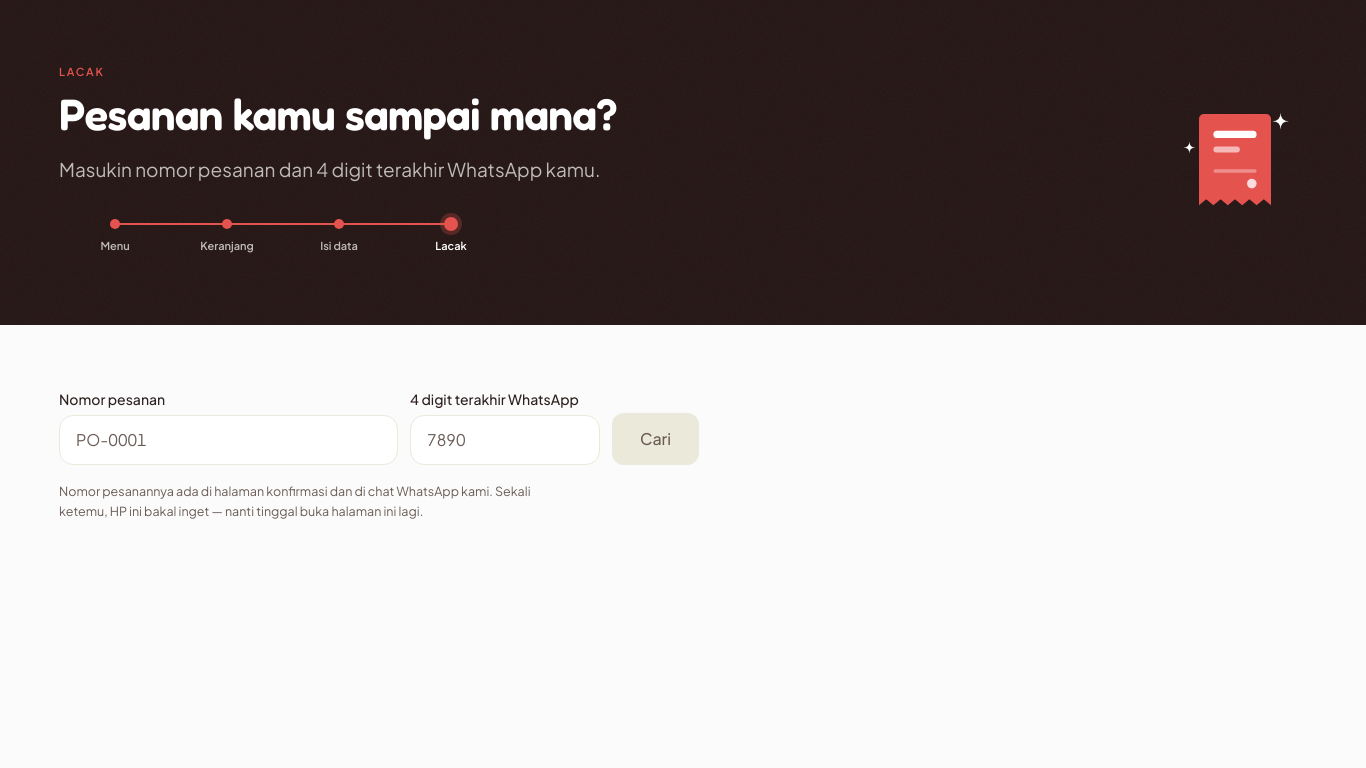
TrackView › says so on a miss, without remembering anything
In the field labelled "Nomor pesanan": {"x": 229, "y": 440} [59,415,398,465], type "PO-0012"
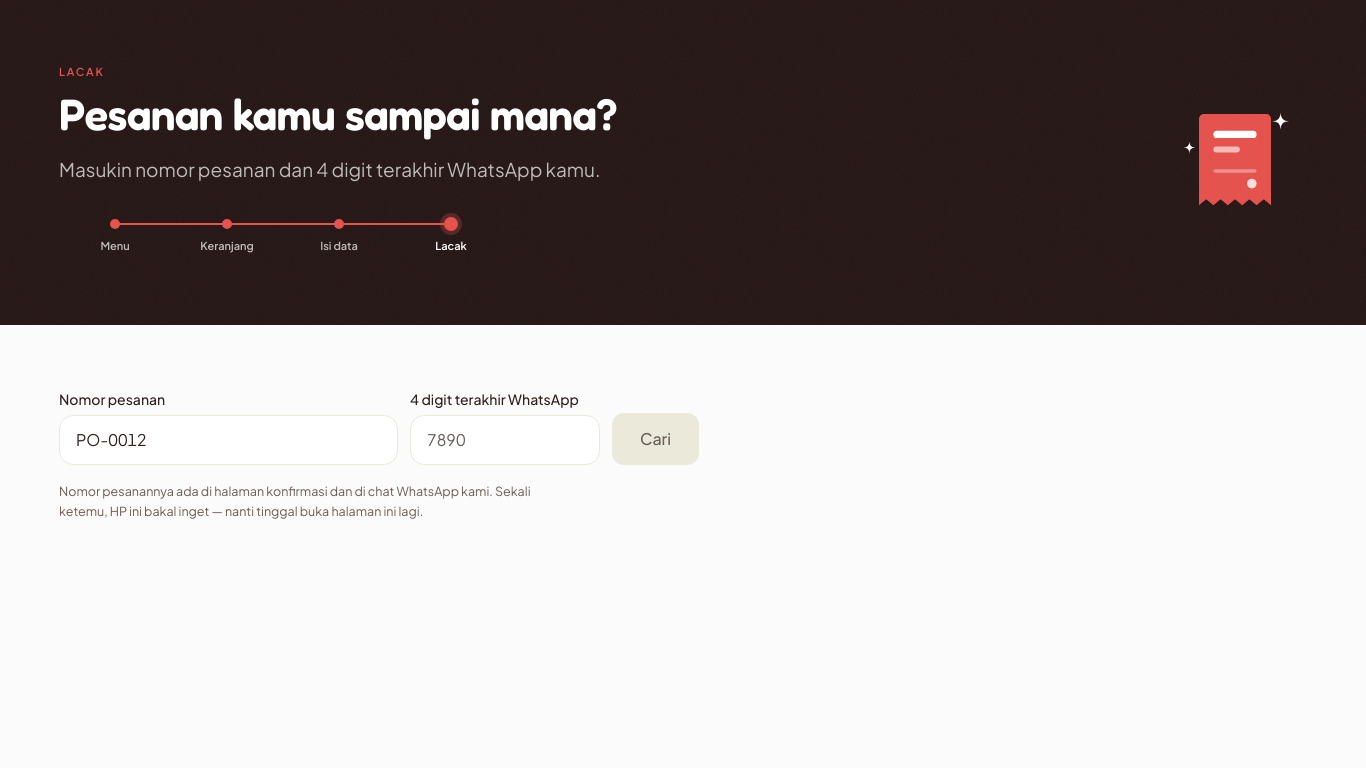
In the field labelled "4 digit terakhir WhatsApp": {"x": 505, "y": 440} [410,415,600,465], type "1111"
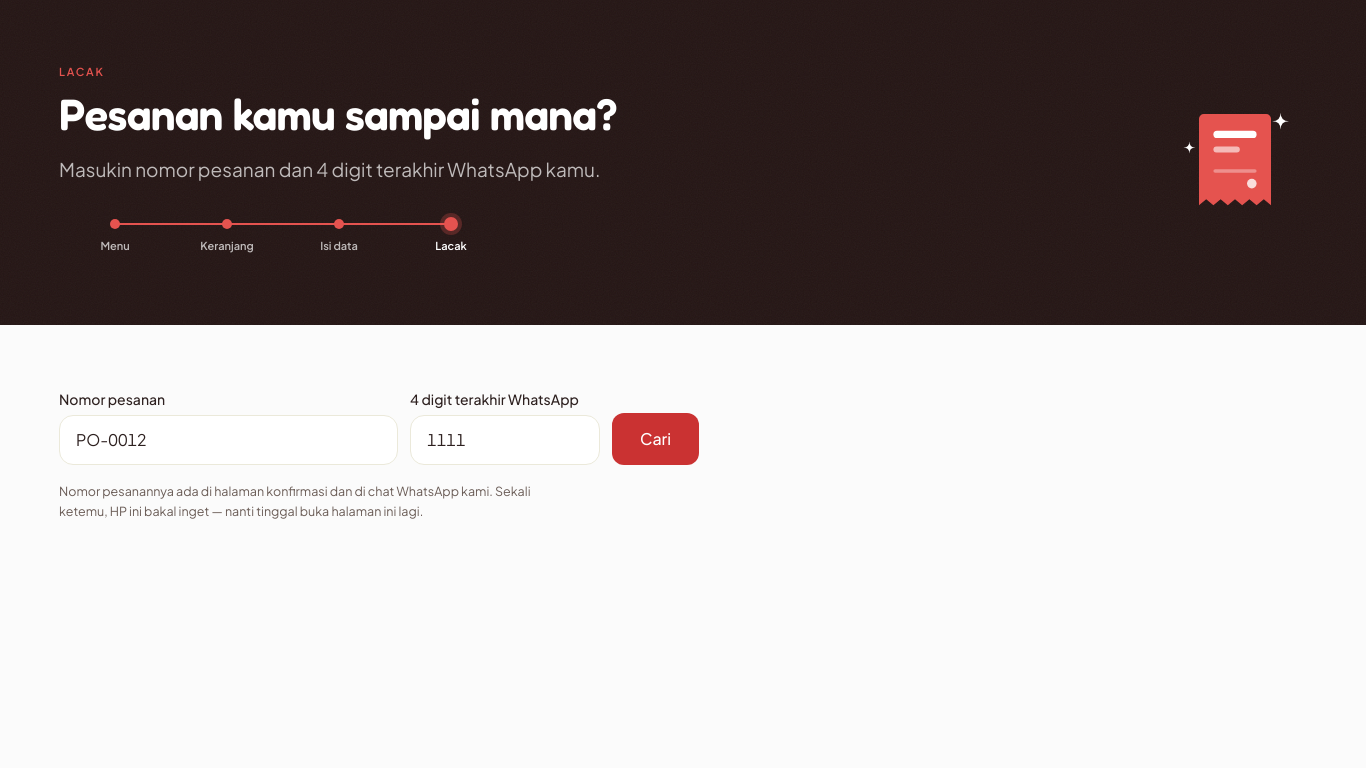
Click the button "Cari": {"x": 656, "y": 439} [612,413,699,465]
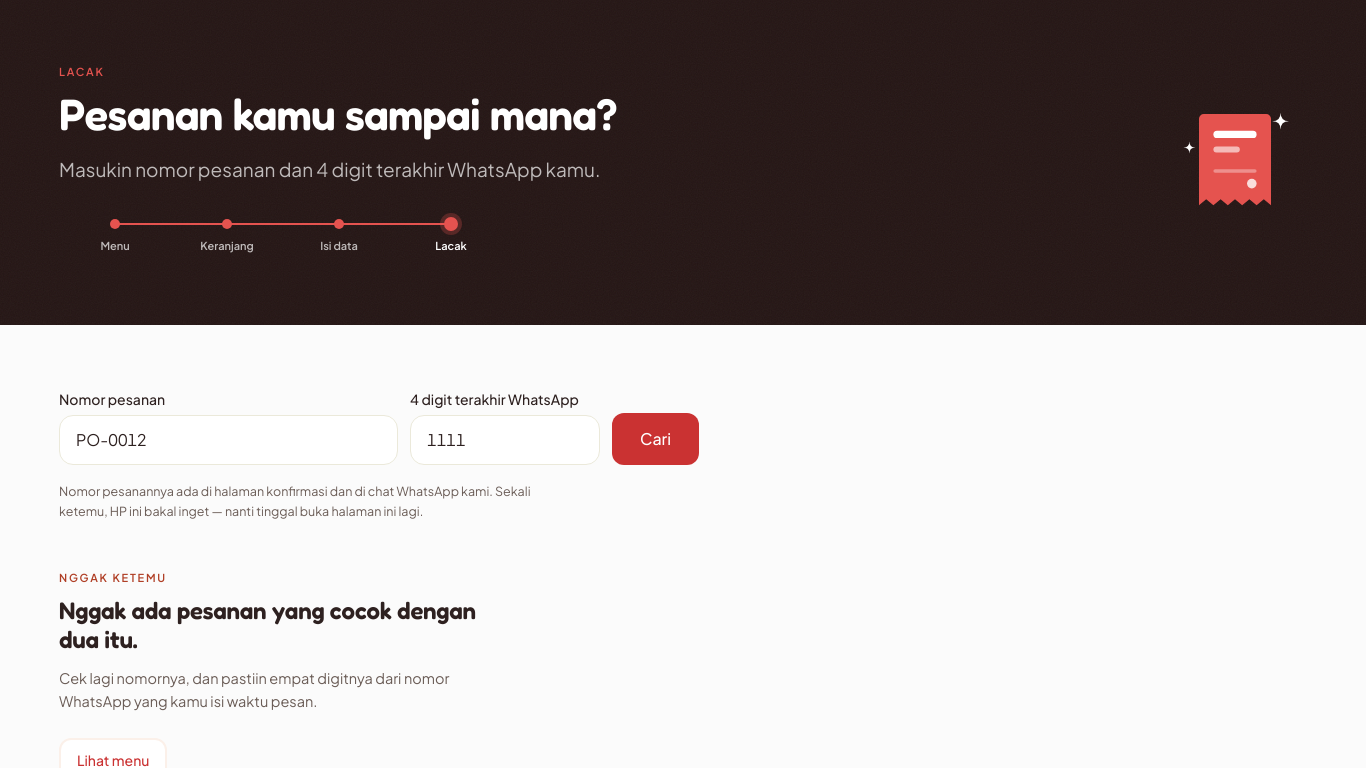
Now the text "Nggak ketemu" is shown, box [59,570,167,584]
